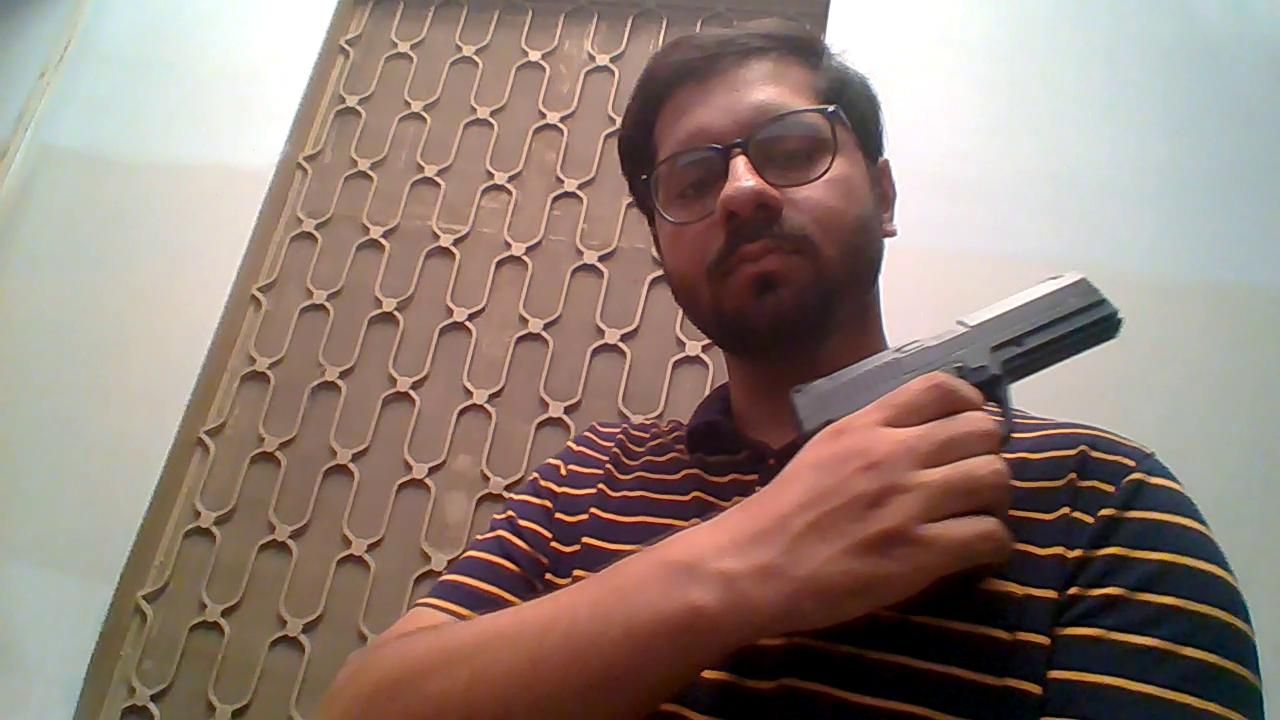criminal: (321, 19, 1266, 720)
weapon: (788, 268, 1126, 456)
